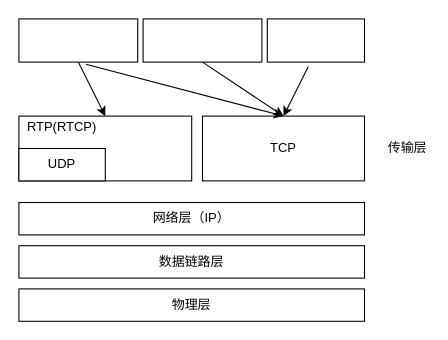
Some shapes in this 448 by 340 pixel diagram are drawn without their labels. The shapes that lost their labels are listed below. From the top down, each one's centre as x and y in pixels, then its label:
the point at 78,40: RTSP
the point at 202,40: HTTP （HTTP FLV、HLS）
the point at 315,40: RTMP
